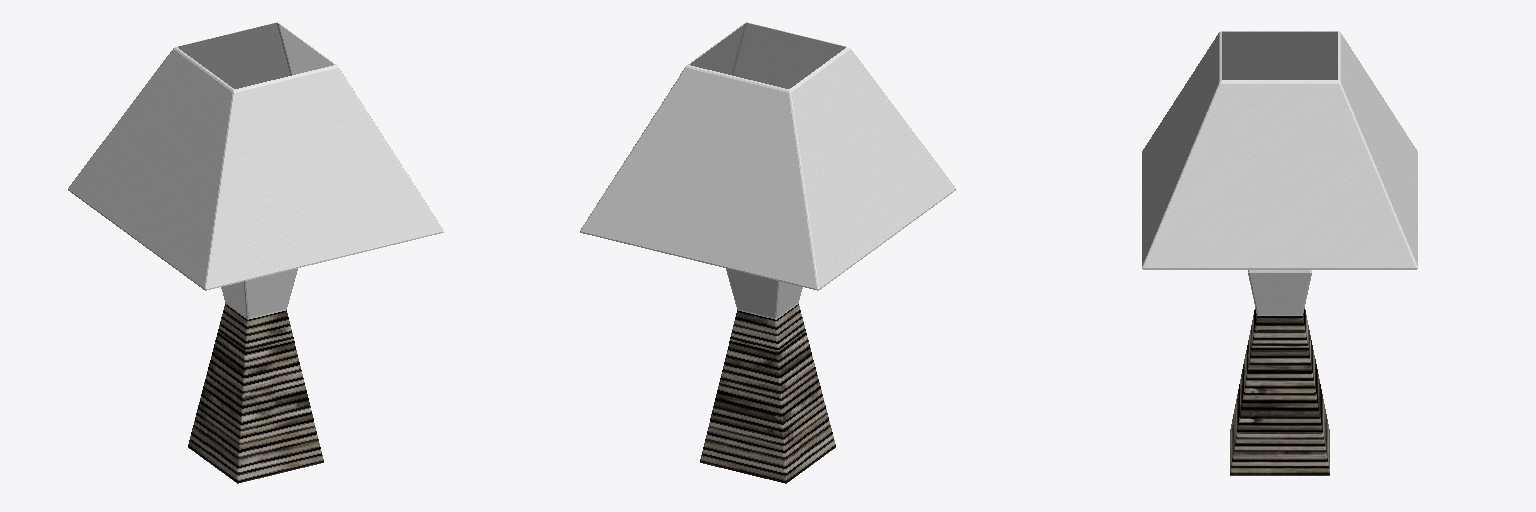
3 renders of one model, left to right at view 1: azimuth 30°, elevation 25°; view 2: azimuth 150°, elevation 25°; view 3: azimuth 270°, elevation 25°, orthographic.
Size of the model in its own units: 0.2385 by 0.3806 by 0.2385.
Materials: 4 (2 with a texture image).